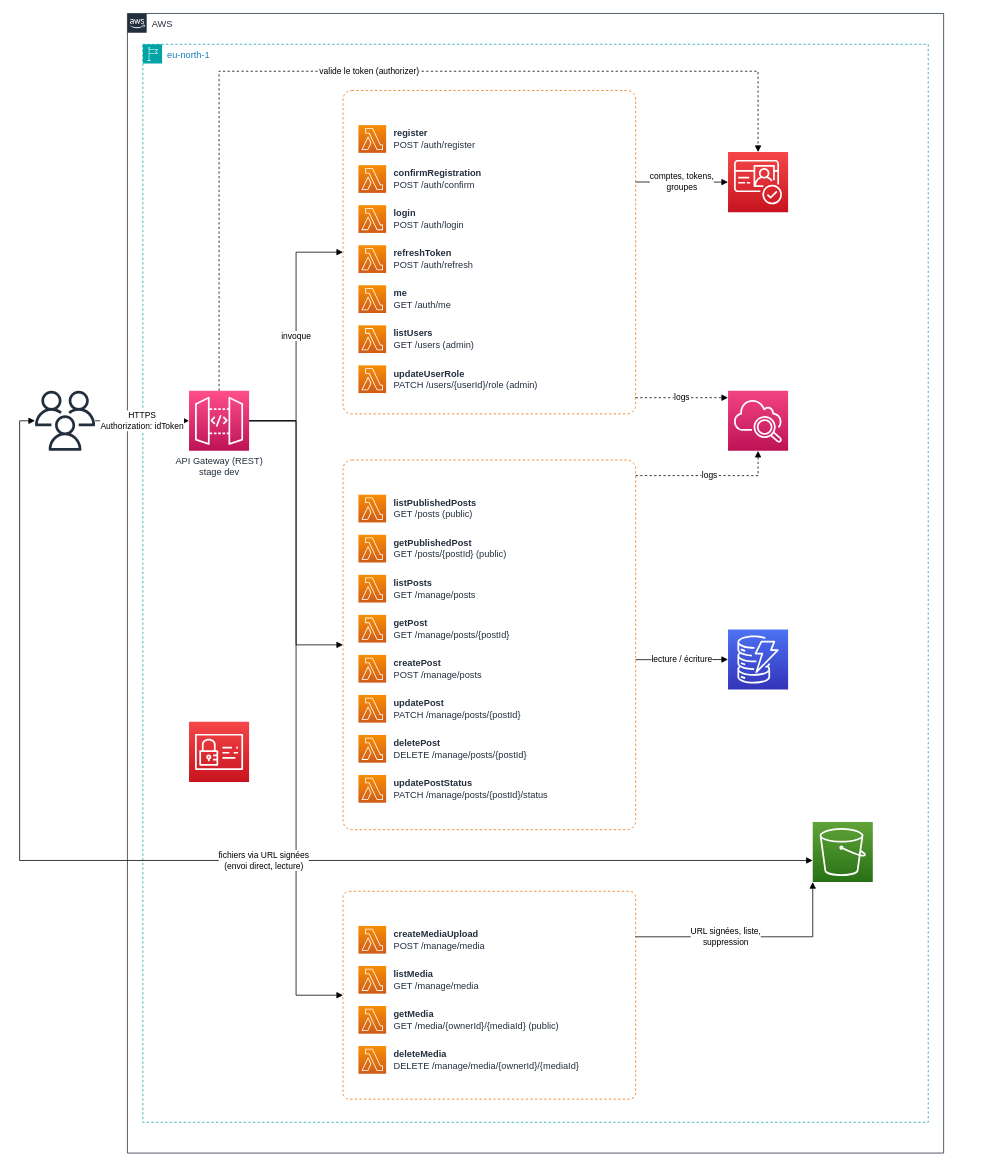
Some shapes in this 1003 by 1167 pixel diagram are drawn without their labels. Here are the shapes that lost their labels. From the top down, the box of each, then its label:
(727, 151, 788, 212): Cognito User Pool groupes : admin, editor, guest-author
(342, 90, 636, 414): Bloc Auth (Lambda Node.js 24, ARM)
(35, 390, 95, 450): Client (front-end, Postman)
(727, 390, 788, 451): CloudWatch Logs (toutes les fonctions)
(342, 459, 636, 830): Bloc Posts (Lambda Node.js 24, ARM)
(727, 629, 788, 690): DynamoDB table posts index byStatus, byAuthor
(188, 721, 249, 782): IAM 1 rôle par fonction Lambda
(812, 821, 873, 882): S3 (privé) seul stockage des médias media/{ownerId}/{mediaId}
(342, 891, 636, 1099): Bloc Media (Lambda Node.js 24, ARM)
